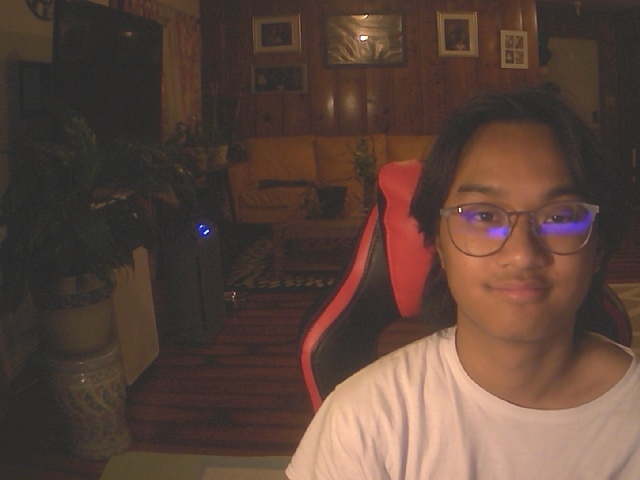happy: (406, 86, 632, 341)
